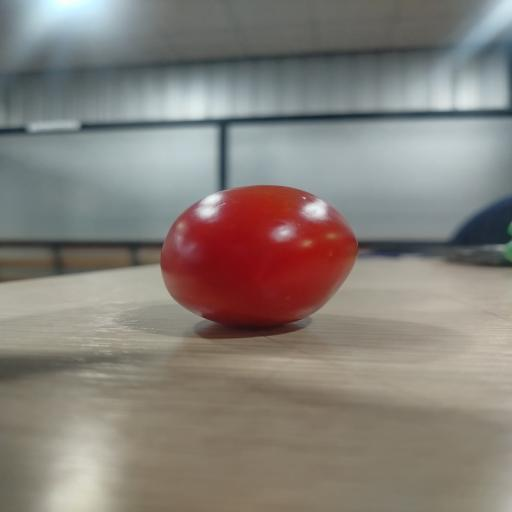ripe: (161, 185, 358, 326)
